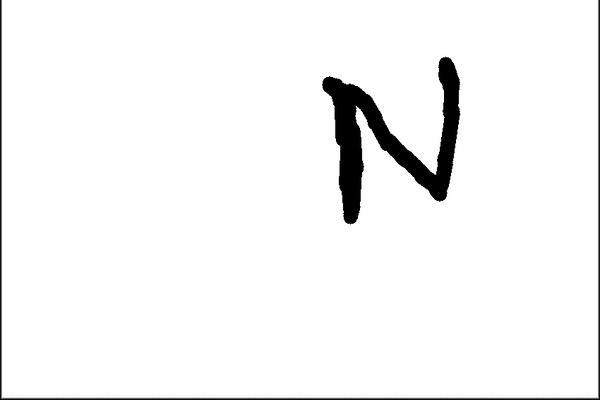N: (317, 51, 466, 229)
